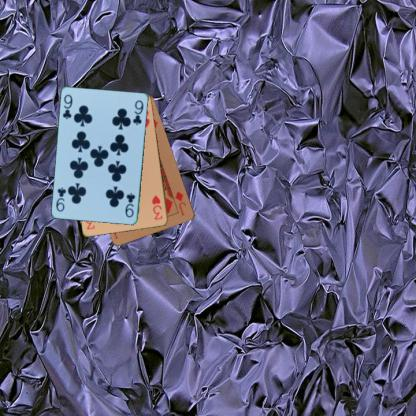3h: (150, 193, 164, 221)
9c: (60, 92, 74, 121), (122, 191, 136, 219)
Jd: (173, 188, 187, 217)
